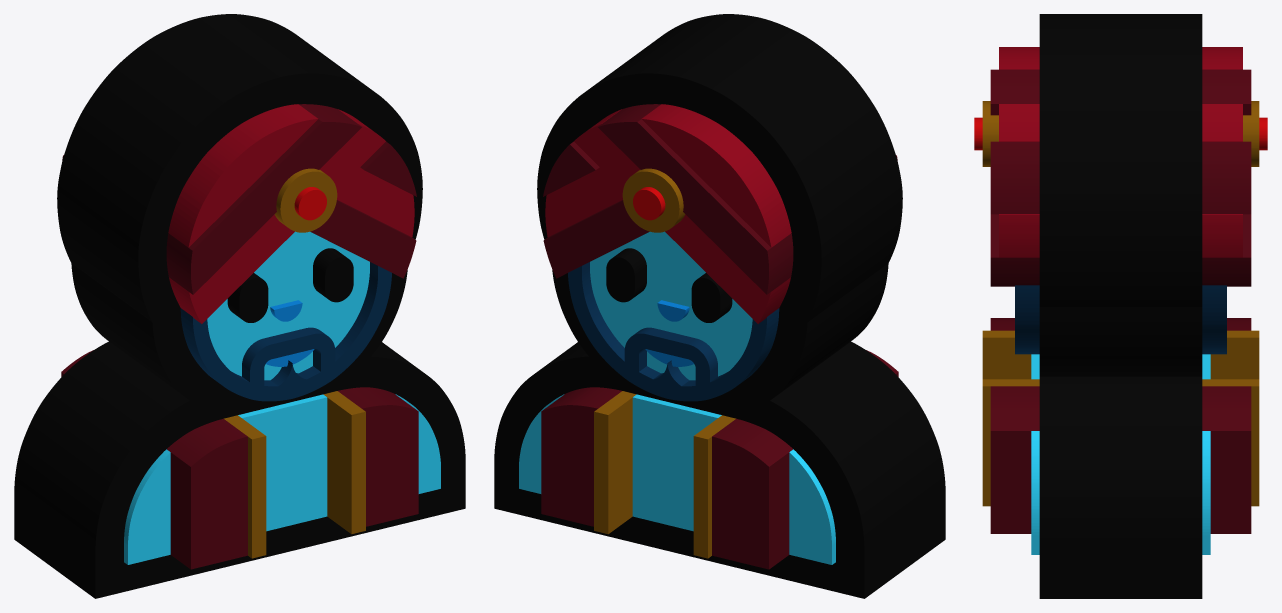
3 views of the same model, side by side, from view 1: azimuth 30°, elevation 25°; view 2: azimuth 150°, elevation 25°; view 3: azimuth 270°, elevation 25° (orthographic).
Visible parts, largest first — view 1: U+1F9DE_layer00_obj00, U+1F9DE_layer06_obj00, U+1F9DE_layer01_obj00, U+1F9DE_layer05_obj00, U+1F9DE_layer07_obj00, U+1F9DE_layer03_obj00, U+1F9DE_layer04_obj00, U+1F9DE_layer02_obj00, U+1F9DE_layer08_obj00; view 2: U+1F9DE_layer00_obj00, U+1F9DE_layer06_obj00, U+1F9DE_layer01_obj00, U+1F9DE_layer05_obj00, U+1F9DE_layer07_obj00, U+1F9DE_layer03_obj00, U+1F9DE_layer04_obj00, U+1F9DE_layer02_obj00, U+1F9DE_layer08_obj00; view 3: U+1F9DE_layer00_obj00, U+1F9DE_layer06_obj00, U+1F9DE_layer07_obj00, U+1F9DE_layer05_obj00, U+1F9DE_layer03_obj00, U+1F9DE_layer01_obj00, U+1F9DE_layer08_obj00.
Part boxes in pixels (box(x1,y1,x2,y2)): U+1F9DE_layer00_obj00: box(14, 14, 465, 598); U+1F9DE_layer06_obj00: box(61, 104, 418, 569); U+1F9DE_layer01_obj00: box(124, 231, 440, 564); U+1F9DE_layer05_obj00: box(168, 104, 414, 323); U+1F9DE_layer07_obj00: box(224, 168, 365, 558); U+1F9DE_layer03_obj00: box(180, 262, 391, 401); U+1F9DE_layer04_obj00: box(227, 248, 353, 322); U+1F9DE_layer02_obj00: box(266, 300, 314, 366); U+1F9DE_layer08_obj00: box(294, 187, 326, 220); U+1F9DE_layer00_obj00: box(494, 14, 945, 598); U+1F9DE_layer06_obj00: box(541, 104, 898, 569); U+1F9DE_layer01_obj00: box(519, 231, 835, 564); U+1F9DE_layer05_obj00: box(545, 104, 791, 323); U+1F9DE_layer07_obj00: box(594, 168, 735, 558); U+1F9DE_layer03_obj00: box(568, 262, 779, 401); U+1F9DE_layer04_obj00: box(606, 248, 732, 322); U+1F9DE_layer02_obj00: box(645, 300, 693, 366); U+1F9DE_layer08_obj00: box(633, 187, 665, 220); U+1F9DE_layer00_obj00: box(1039, 14, 1202, 598); U+1F9DE_layer06_obj00: box(990, 69, 1251, 533); U+1F9DE_layer07_obj00: box(982, 101, 1259, 506); U+1F9DE_layer05_obj00: box(999, 47, 1242, 257); U+1F9DE_layer03_obj00: box(1015, 285, 1226, 354); U+1F9DE_layer01_obj00: box(1031, 354, 1210, 554); U+1F9DE_layer08_obj00: box(974, 117, 1267, 150).
Size of the model in its own units: 0.5275 by 0.649 by 0.36.
